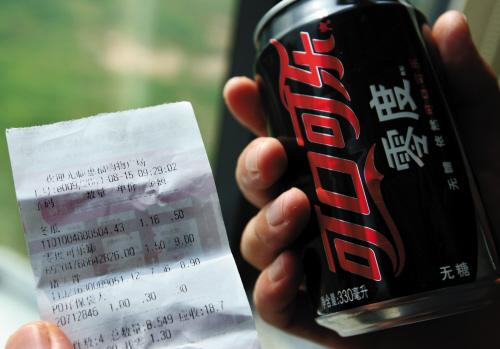coke_zero: (234, 1, 500, 346)
